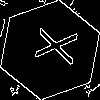X: (25, 25, 78, 66)
